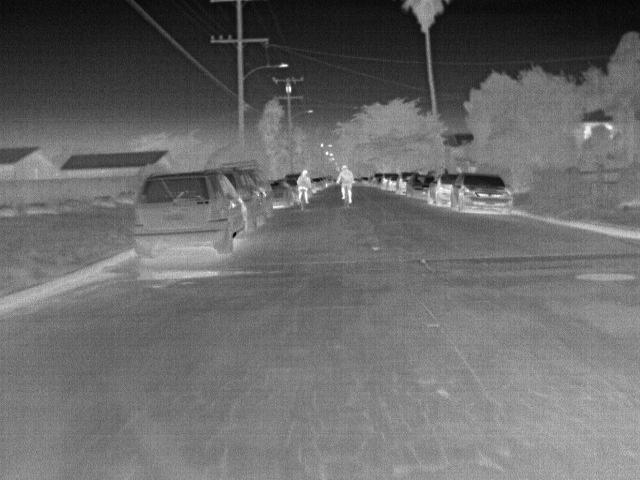car: (134, 174, 246, 260), (207, 169, 268, 228), (449, 174, 516, 216), (431, 174, 465, 206), (268, 179, 296, 209), (405, 174, 436, 200), (397, 173, 417, 198), (386, 174, 403, 192), (381, 174, 396, 190), (371, 172, 386, 186), (310, 178, 325, 192)
person: (336, 164, 356, 205), (296, 170, 310, 204)
